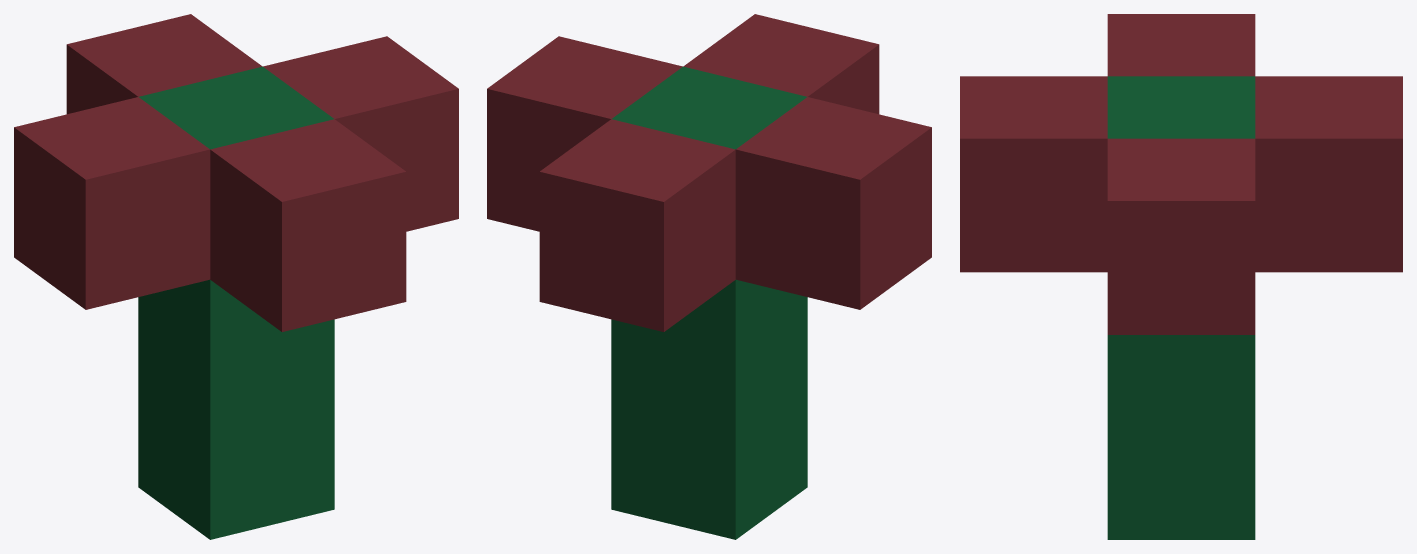
The model's file is flower_g_8.obj.
3 views of the same model, side by side, from view 1: azimuth 30°, elevation 25°; view 2: azimuth 150°, elevation 25°; view 3: azimuth 270°, elevation 25° (orthographic). The views are drawn at different scales.
Size of the model in its own units: 0.3 by 0.3 by 0.3.
Materials: 1 (1 with a texture image).
